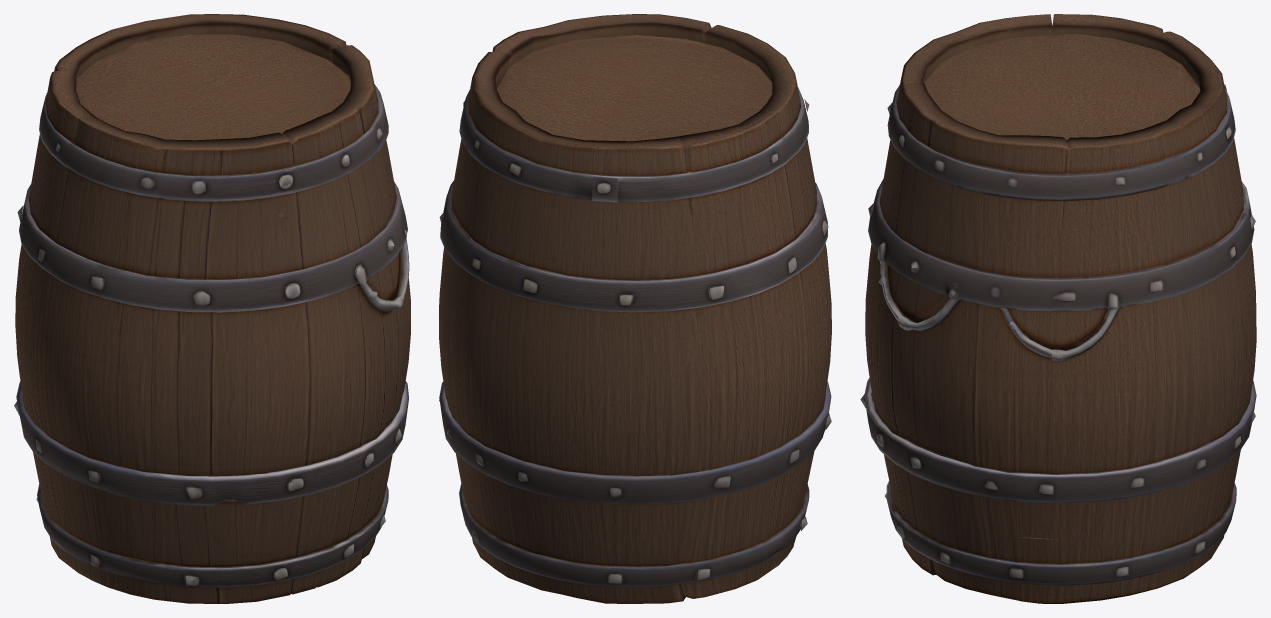
The model's file is barile.fbx.
3 views of the same model, side by side, from view 1: azimuth 30°, elevation 25°; view 2: azimuth 150°, elevation 25°; view 3: azimuth 270°, elevation 25° (orthographic).
Visible parts, largest first — view 1: tripo_node_277c11e4; view 2: tripo_node_277c11e4; view 3: tripo_node_277c11e4.
Part boxes in pixels (bbox=[...]): tripo_node_277c11e4: bbox=[14, 14, 410, 603]; tripo_node_277c11e4: bbox=[439, 14, 831, 603]; tripo_node_277c11e4: bbox=[860, 14, 1256, 603].
Size of the model in its own units: 0.7876 by 0.9995 by 0.7808.
Materials: 1 (1 with a texture image).
